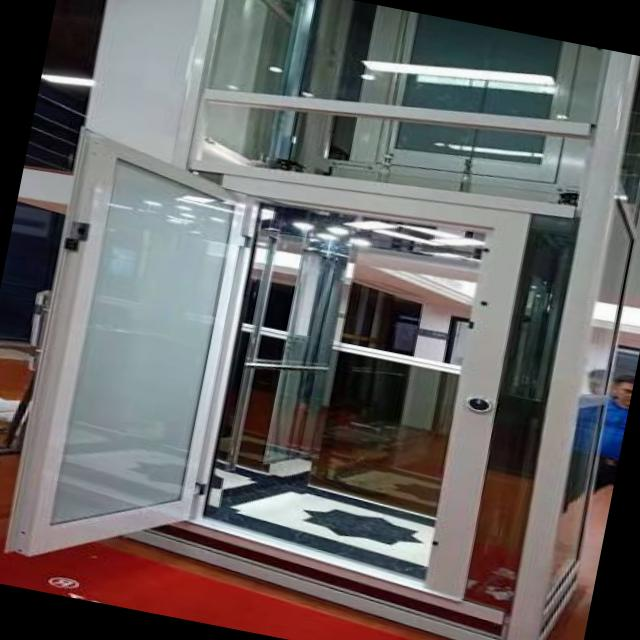elevator: (0, 98, 567, 640)
